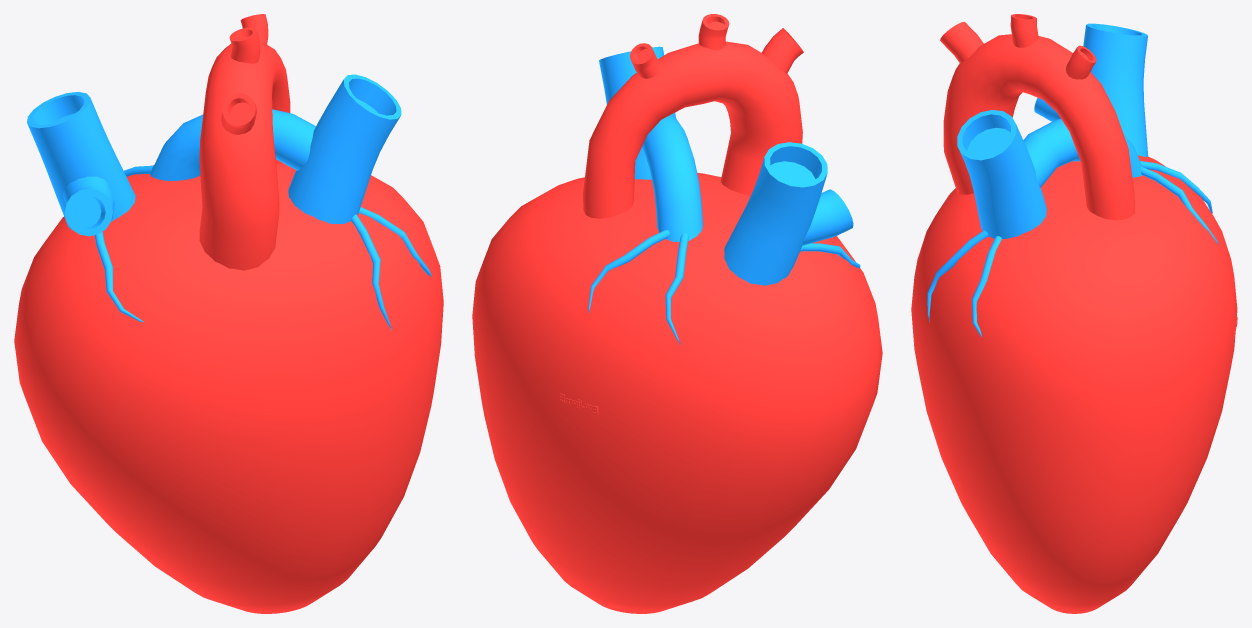
File: anatomical_heart.gltf
3 views of the same model, side by side, from view 1: azimuth 30°, elevation 25°; view 2: azimuth 150°, elevation 25°; view 3: azimuth 270°, elevation 25° (orthographic). The views are drawn at different scales.
Visible parts, largest first — view 1: Sphere.024; view 2: Sphere.024; view 3: Sphere.024.
Part boxes in pixels (box(x1,y1,x2,y2)): Sphere.024: box(14, 14, 443, 613); Sphere.024: box(472, 14, 882, 613); Sphere.024: box(911, 14, 1237, 613).
Size of the model in its own units: 1.55 by 2.31 by 1.21.
Materials: 1 (1 with a texture image).
